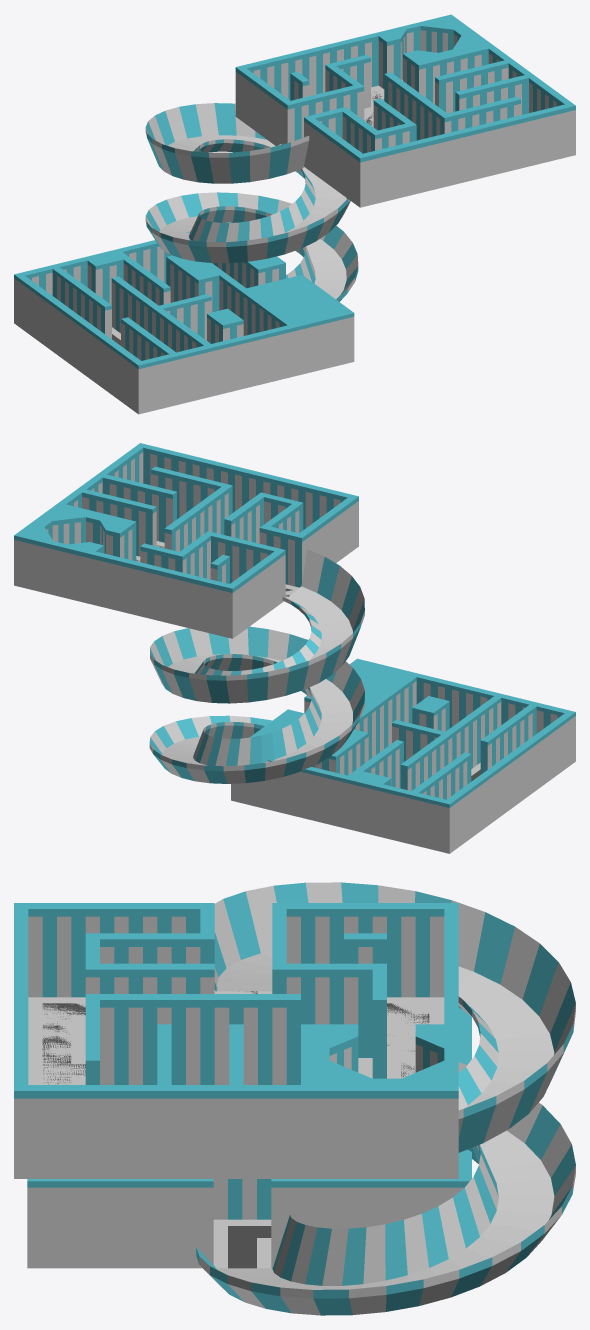
The model's file is levelobj9.fbx.
3 views of the same model, one above another, from view 1: azimuth 30°, elevation 25°; view 2: azimuth 150°, elevation 25°; view 3: azimuth 270°, elevation 25° (orthographic). The views are drawn at different scales.
Parts seen in each view (by area): view 1: Plane.001, Plane, Cube; view 2: Plane.001, Plane, Cube; view 3: Plane.001, Cube, Plane.
Part boxes in pixels (x1,y1,x2,y2): Plane.001: (235, 14, 575, 207); Plane: (14, 222, 354, 414); Cube: (145, 103, 358, 301); Plane.001: (14, 443, 358, 638); Plane: (231, 658, 575, 853); Cube: (149, 549, 364, 783); Plane.001: (14, 903, 458, 1178); Cube: (196, 882, 575, 1315); Plane: (27, 1008, 471, 1268).
Size of the model in its own units: 3215 by 1495 by 2022.
